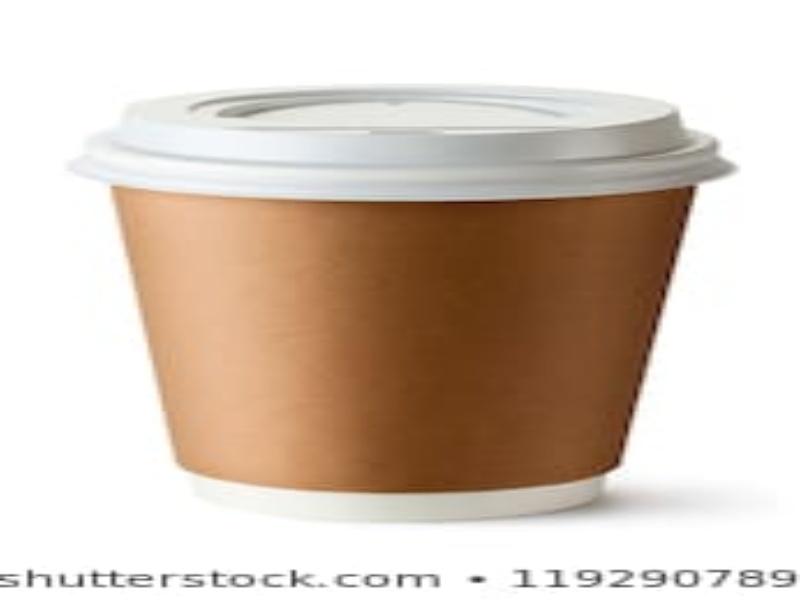coffee-lid: (67, 81, 745, 202)
plastic-cup: (69, 81, 748, 519)
